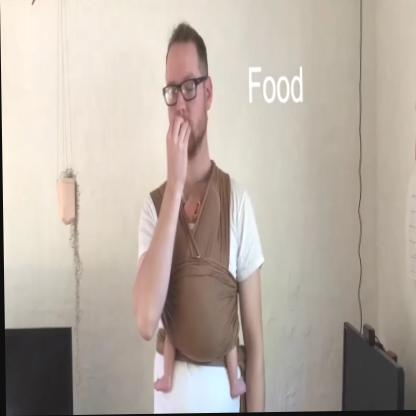Food: (154, 17, 216, 182)
